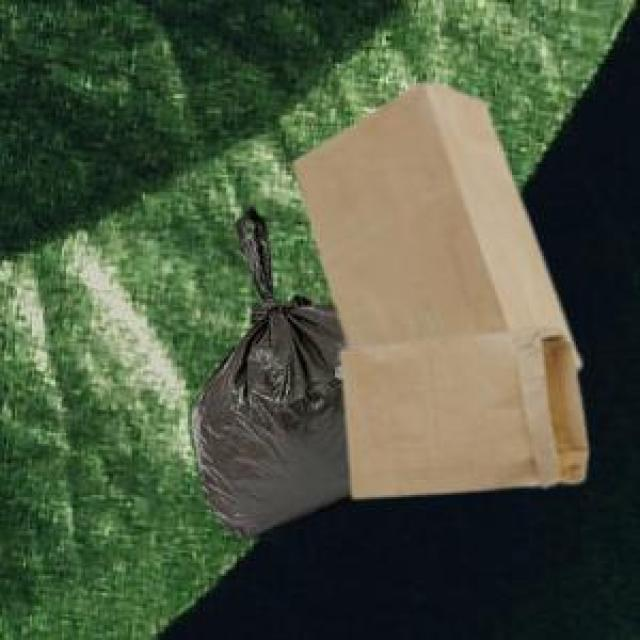miscellaneous trash: (188, 203, 348, 536)
paper: (290, 79, 576, 365), (337, 324, 582, 493)
